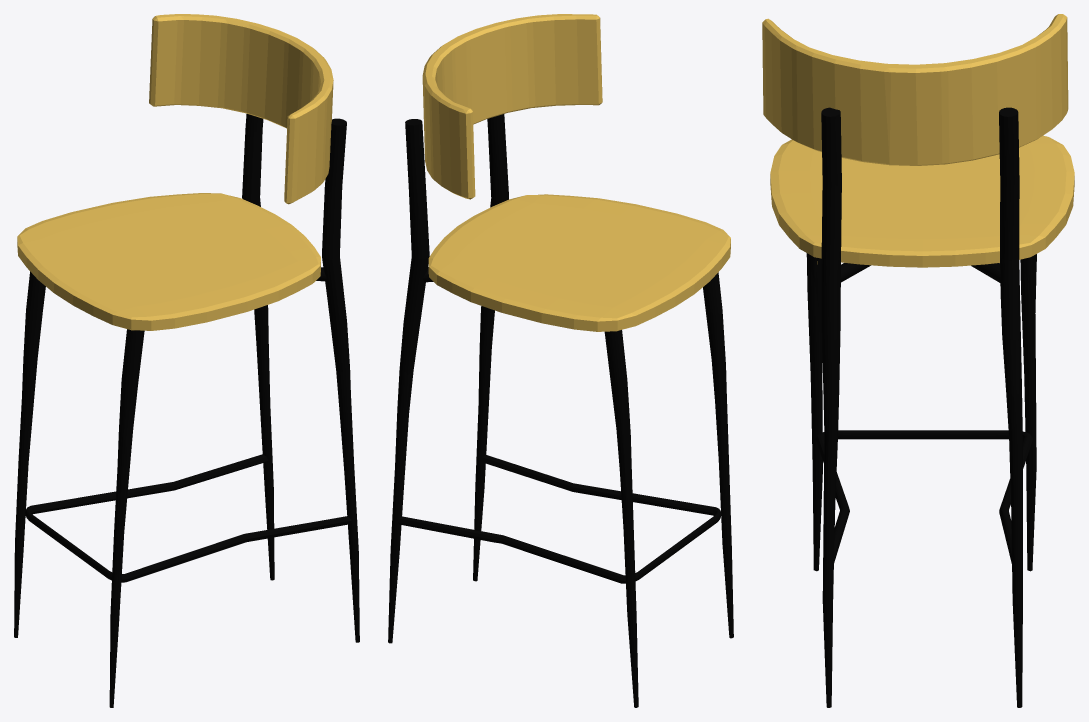
Rendered from TallChair.fbx.
3 views of the same model, side by side, from view 1: azimuth 30°, elevation 25°; view 2: azimuth 150°, elevation 25°; view 3: azimuth 270°, elevation 25° (orthographic). The views are drawn at different scales.
Visible parts, largest first — view 1: TallChair; view 2: TallChair; view 3: TallChair.
Part boxes in pixels (box(x1,y1,x2,y2)): TallChair: box(14, 14, 359, 707); TallChair: box(388, 14, 733, 707); TallChair: box(762, 14, 1074, 707).
Size of the model in its own units: 324 by 672 by 297.
Materials: 1 (1 with a texture image).
